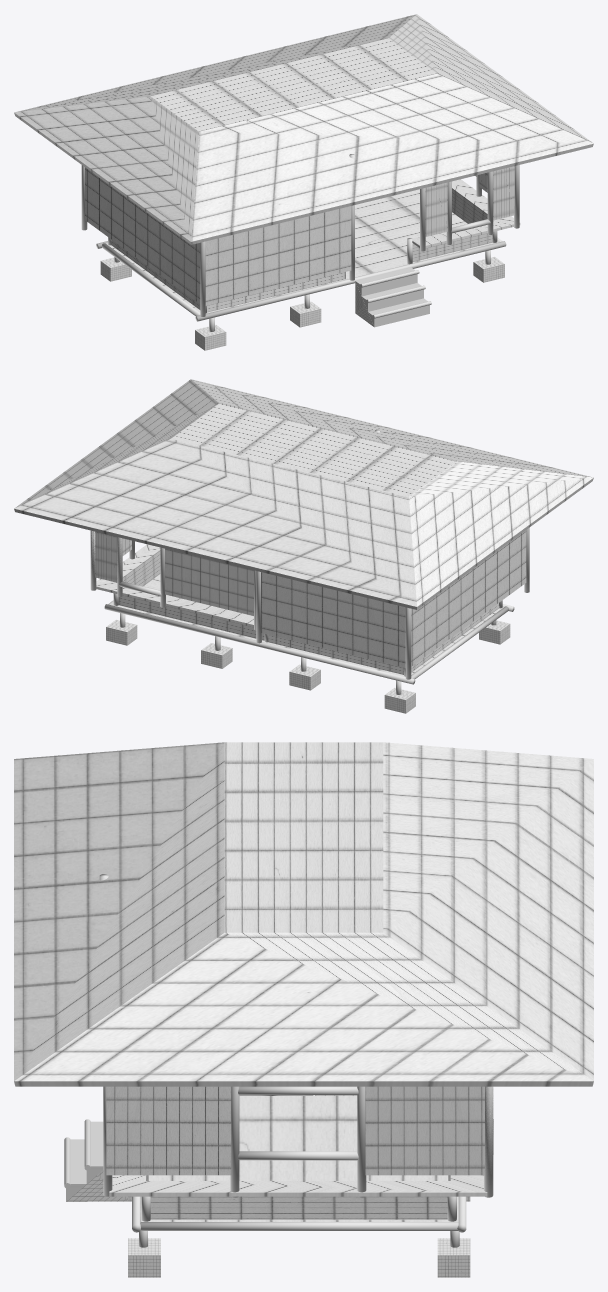
File: nipahut.fbx
The picture shows the model from 3 angles, top to bottom: view 1: azimuth 30°, elevation 25°; view 2: azimuth 150°, elevation 25°; view 3: azimuth 270°, elevation 25°; orthographic projection. The views are drawn at different scales.
Visible parts, largest first — view 1: Cube.105, Cube.104, Cube.088, Cube.094, Cube.095, Cylinder.015, Cube.089, Cube.103, Cube.097, Cube.098, Cylinder.018, Cylinder.021 (+4 smaller); view 2: Cube.105, Cube.104, Cube.094, Cube.100, Cylinder.015, Cube.089, Cube.103, Cube.093, Cube.088, Cube.099, Cylinder.030, Cylinder.016 (+2 smaller); view 3: Cube.105, Cube.101, Cube.094, Cube.088, Cylinder.016, Cube.089, Cylinder.027, Cylinder.025, Cube.095, Cylinder.022, Cube.096, Cylinder.018.
Boxes of the visible parts, <box> form: Cube.105: <box>14,14,593,244</box>; Cube.104: <box>85,167,351,305</box>; Cube.088: <box>106,189,499,313</box>; Cube.094: <box>412,179,520,261</box>; Cube.095: <box>355,267,429,327</box>; Cylinder.015: <box>96,241,506,321</box>; Cube.089: <box>100,256,504,350</box>; Cube.103: <box>111,240,355,312</box>; Cube.097: <box>425,182,447,236</box>; Cube.098: <box>493,166,514,220</box>; Cylinder.018: <box>360,270,431,318</box>; Cylinder.021: <box>487,165,519,234</box>; Cube.105: <box>14,379,593,609</box>; Cube.104: <box>261,530,526,667</box>; Cube.094: <box>96,544,264,640</box>; Cube.100: <box>165,548,253,615</box>; Cylinder.015: <box>104,604,514,684</box>; Cube.089: <box>106,619,510,713</box>; Cube.103: <box>268,603,499,674</box>; Cube.093: <box>201,643,320,690</box>; Cube.088: <box>111,574,504,676</box>; Cube.099: <box>95,531,117,582</box>; Cylinder.030: <box>405,527,529,679</box>; Cylinder.016: <box>108,600,508,679</box>; Cube.105: <box>14,742,593,1086</box>; Cube.101: <box>106,1086,484,1175</box>; Cube.094: <box>109,1175,487,1219</box>; Cube.088: <box>140,1095,458,1224</box>; Cylinder.016: <box>140,1222,458,1230</box>; Cube.089: <box>128,1238,470,1277</box>; Cylinder.027: <box>238,1086,358,1160</box>; Cylinder.025: <box>230,1086,366,1197</box>; Cube.095: <box>66,1121,103,1201</box>; Cylinder.022: <box>484,1086,493,1197</box>; Cube.096: <box>66,1170,127,1201</box>; Cylinder.018: <box>64,1119,90,1188</box>.
Size of the model in its own units: 1364 by 620 by 1037.
